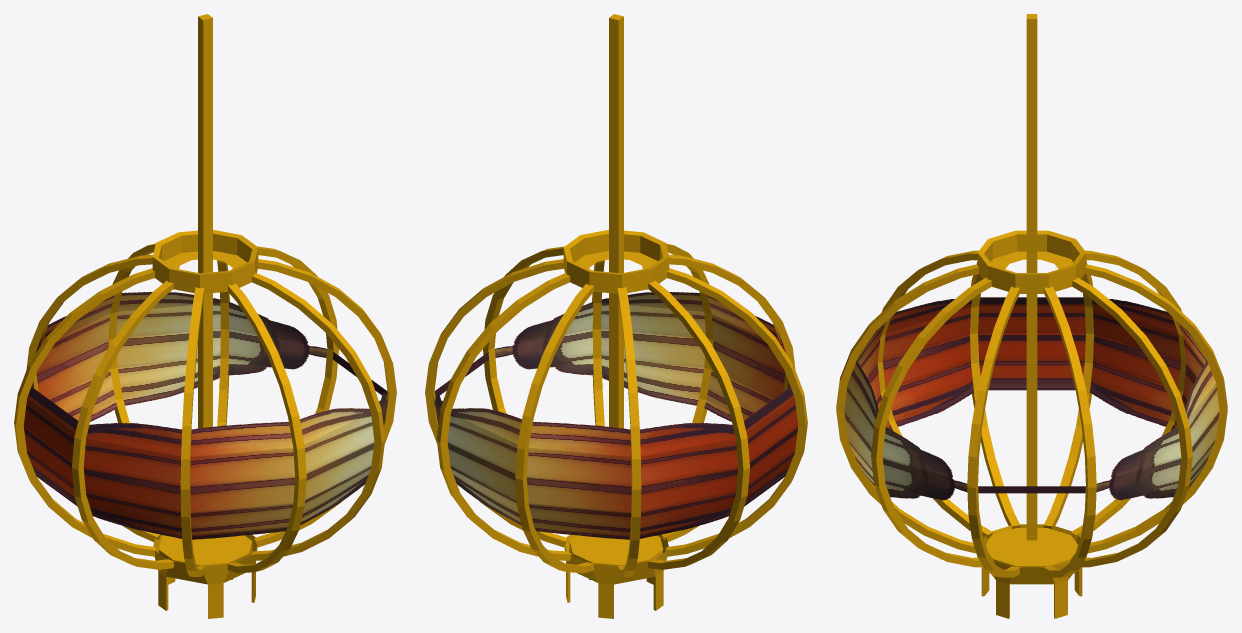
Rendered from Raven_Lantern.fbx.
The picture shows the model from 3 angles, left to right: view 1: azimuth 30°, elevation 25°; view 2: azimuth 150°, elevation 25°; view 3: azimuth 270°, elevation 25°; orthographic projection.
Parts seen in each view (by area): view 1: Sphere.002, Sphere.004, Cube, Sphere.003, Sphere.001; view 2: Sphere.002, Sphere.004, Cube, Sphere.003, Sphere.001; view 3: Sphere.002, Sphere.004, Cube, Sphere.001, Sphere.003.
Part boxes in pixels (x1,y1,x2,y2): Sphere.002: (23,292,388,539); Sphere.004: (14,243,396,576); Cube: (198,14,212,428); Sphere.003: (152,230,258,293); Sphere.001: (153,534,257,618); Sphere.002: (433,292,798,539); Sphere.004: (425,243,807,576); Cube: (609,14,623,428); Sphere.003: (563,230,669,293); Sphere.001: (564,534,668,618); Sphere.002: (844,297,1219,500); Sphere.004: (836,250,1227,577); Cube: (1026,14,1037,540); Sphere.001: (981,524,1082,618); Sphere.003: (977,230,1086,293).
Size of the model in its own units: 198 by 340 by 207.
